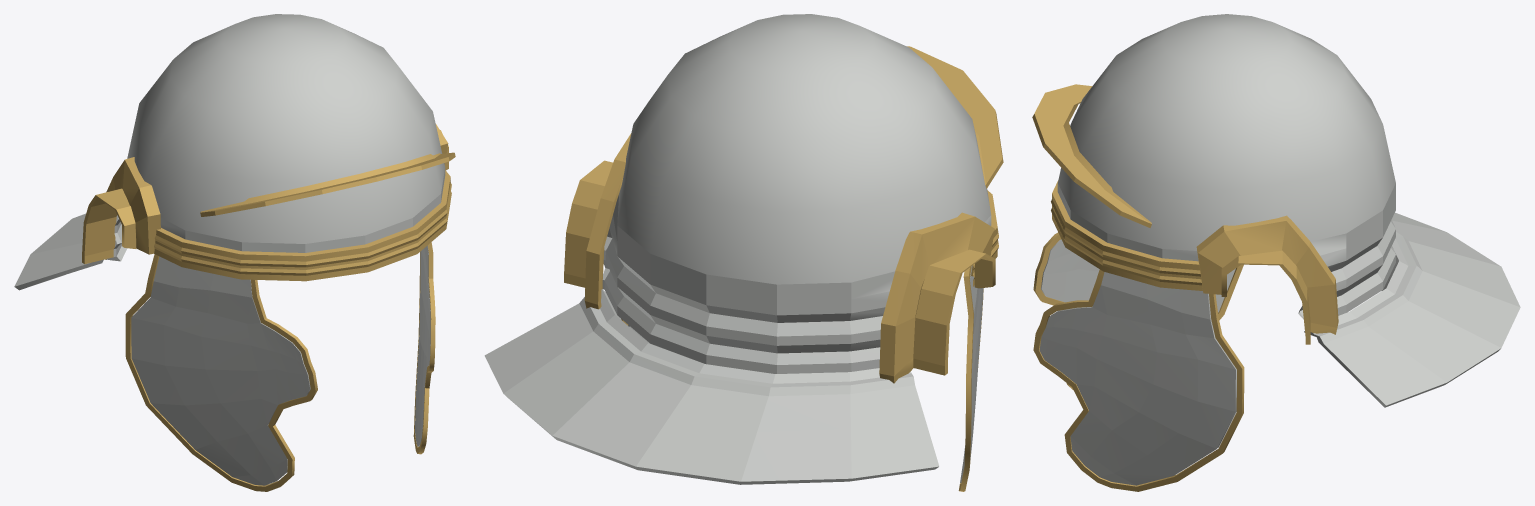
The model's file is SM_roman_helmet_02.fbx.
3 renders of one model, left to right at view 1: azimuth 30°, elevation 25°; view 2: azimuth 150°, elevation 25°; view 3: azimuth 270°, elevation 25°, orthographic. The views are drawn at different scales.
Visible parts, largest first — view 1: helmet_roman_02; view 2: helmet_roman_02; view 3: helmet_roman_02.
Boxes of the visible parts, <box> form: helmet_roman_02: <box>14,14,455,491</box>; helmet_roman_02: <box>484,14,1003,491</box>; helmet_roman_02: <box>1032,14,1520,491</box>.
Size of the model in its own units: 30.32 by 30.04 by 31.83.
